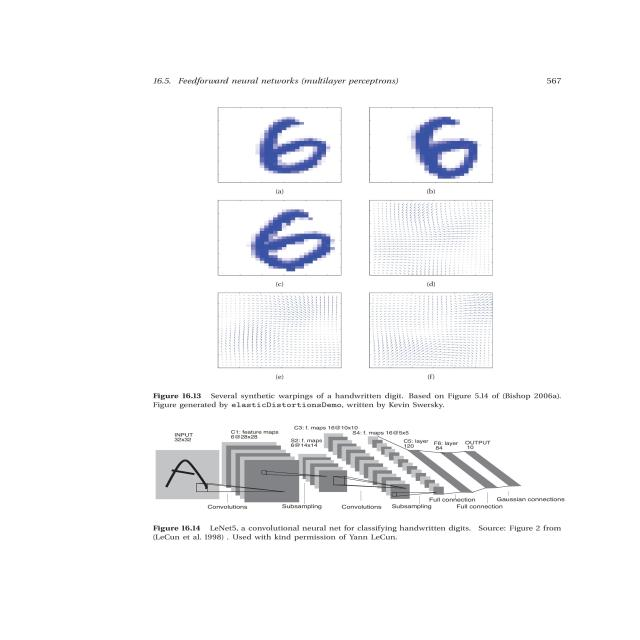diagram: (143, 98, 615, 545)
